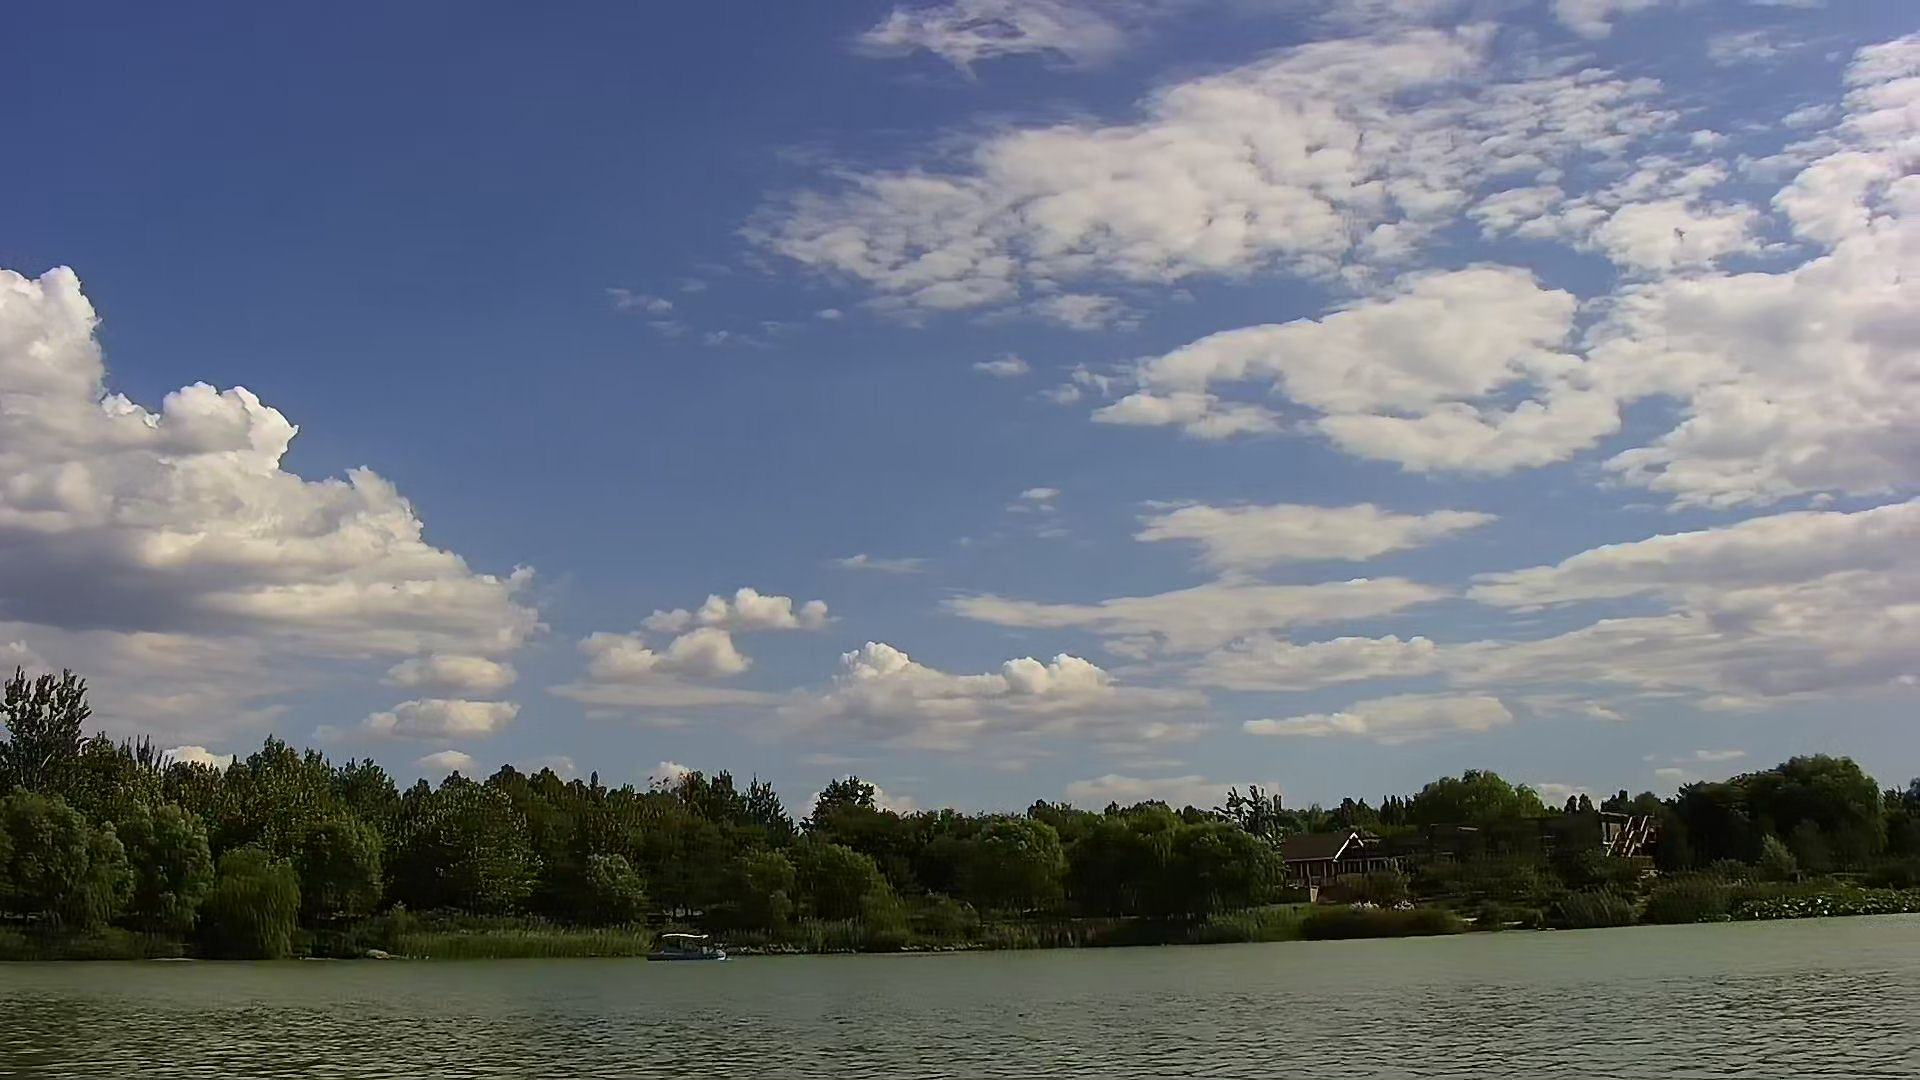boat: (638, 926, 731, 972)
